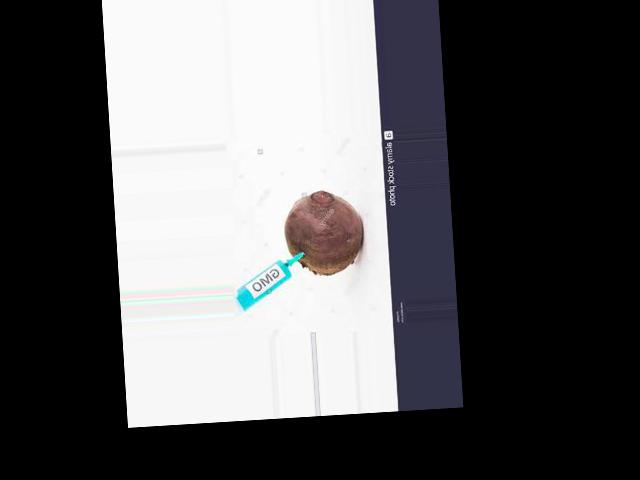beet: (282, 189, 366, 276)
